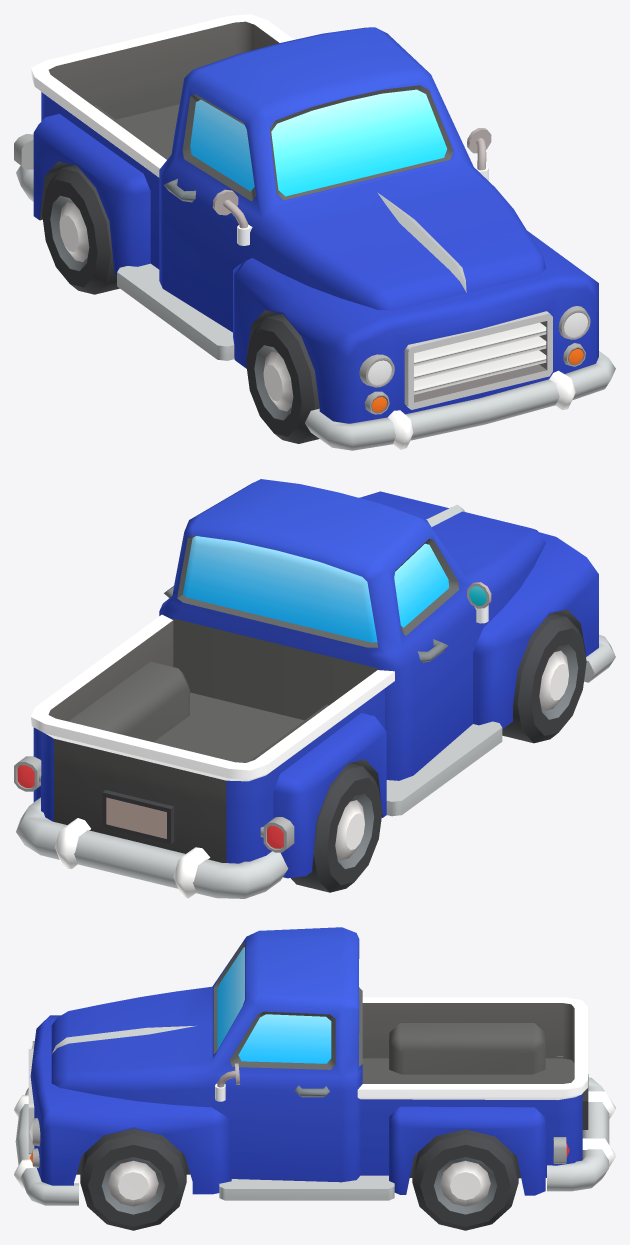
Rendered from city2-car-16.glb.
The picture shows the model from 3 angles, top to bottom: view 1: azimuth 30°, elevation 25°; view 2: azimuth 150°, elevation 25°; view 3: azimuth 270°, elevation 25°; orthographic projection. The views are drawn at different scales.
Visible parts, largest first — view 1: Plane.121, Wheel_162, Wheel_161; view 2: Plane.121, Wheel_161, Wheel_162; view 3: Plane.121, Wheel_163, Wheel_164.
Boxes of the visible parts, x1=… form: Plane.121: x1=14, y1=14, x2=615, y2=450; Wheel_162: x1=42, y1=165, x2=119, y2=294; Wheel_161: x1=246, y1=314, x2=319, y2=443; Plane.121: x1=14, y1=479, x2=615, y2=898; Wheel_161: x1=502, y1=613, x2=586, y2=743; Wheel_162: x1=291, y1=763, x2=382, y2=892; Plane.121: x1=14, y1=927, x2=615, y2=1205; Wheel_163: x1=80, y1=1128, x2=186, y2=1230; Wheel_164: x1=412, y1=1129, x2=518, y2=1230.
Bounding box in the file's own units: 2.17 × 1.93 × 4.79.
Materials: 2 (2 with a texture image).
